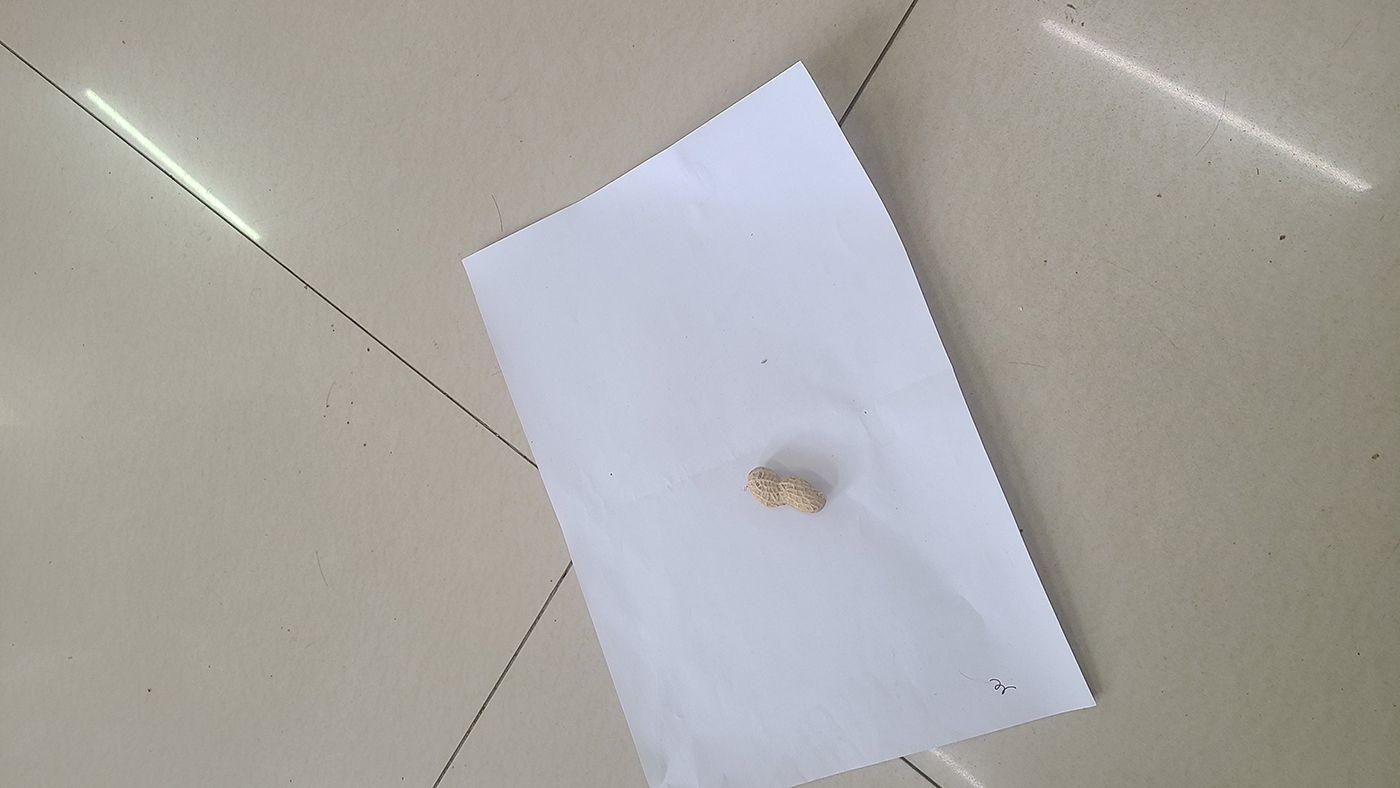h: (747, 466, 827, 515)
